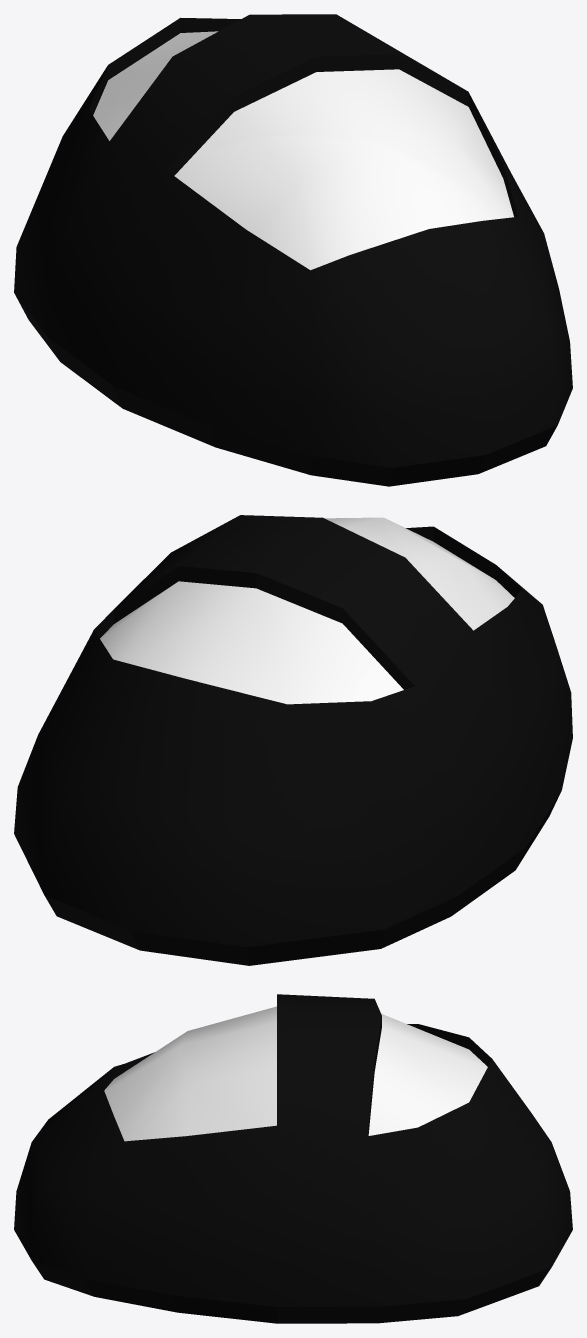
The model's file is legL.fbx.
3 views of the same model, one above another, from view 1: azimuth 30°, elevation 25°; view 2: azimuth 150°, elevation 25°; view 3: azimuth 270°, elevation 25° (orthographic). The views are drawn at different scales.
Visible parts, largest first — view 1: Shoes1; view 2: Shoes1; view 3: Shoes1.
Part boxes in pixels (left/top/right/bottom): Shoes1: left=14, top=14, right=572, bottom=486; Shoes1: left=14, top=515, right=572, bottom=965; Shoes1: left=14, top=994, right=572, bottom=1323.
Bounding box in the file's own units: 0.0262 × 0.0185 × 0.0389.
2 materials, 2 textured.
